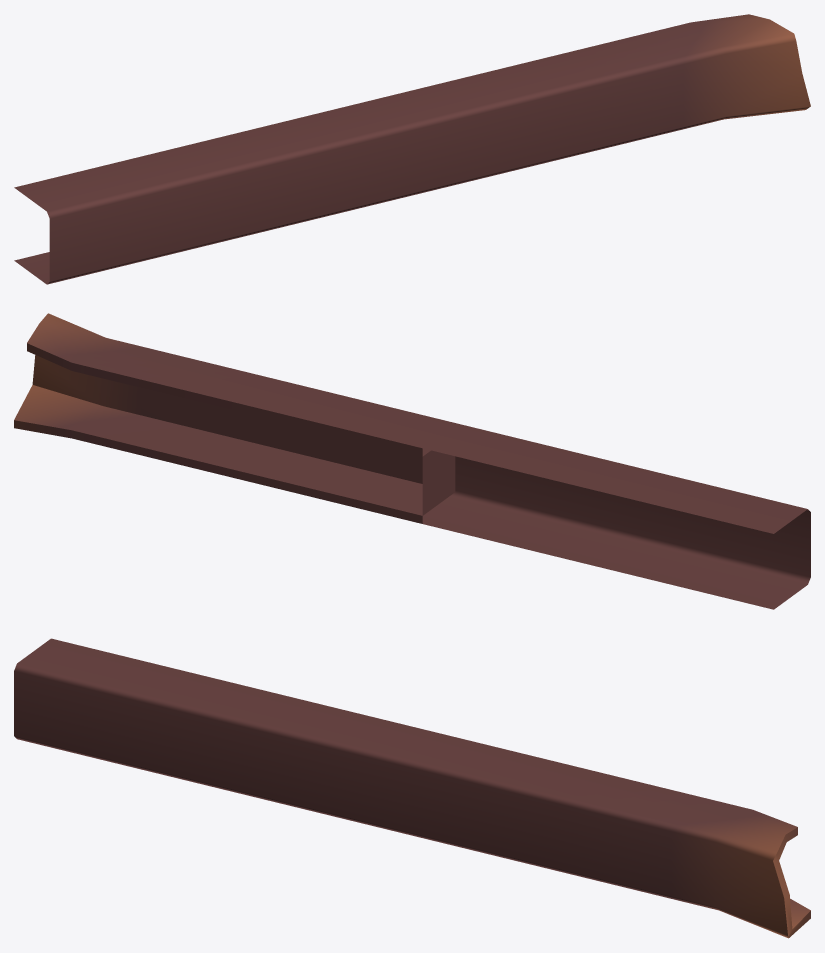
The model's file is DBK_Trim_D_End.fbx.
3 views of the same model, one above another, from view 1: azimuth 30°, elevation 25°; view 2: azimuth 150°, elevation 25°; view 3: azimuth 330°, elevation 25° (orthographic). The views are drawn at different scales.
Parts seen in each view (by area): view 1: DBK_Trim_D_End; view 2: DBK_Trim_D_End; view 3: DBK_Trim_D_End.
Boxes of the visible parts, <box> form: DBK_Trim_D_End: <box>14,14,810,284</box>; DBK_Trim_D_End: <box>14,313,810,609</box>; DBK_Trim_D_End: <box>14,638,810,938</box>.
Bounding box in the file's own units: 136 × 15.61 × 13.46.
